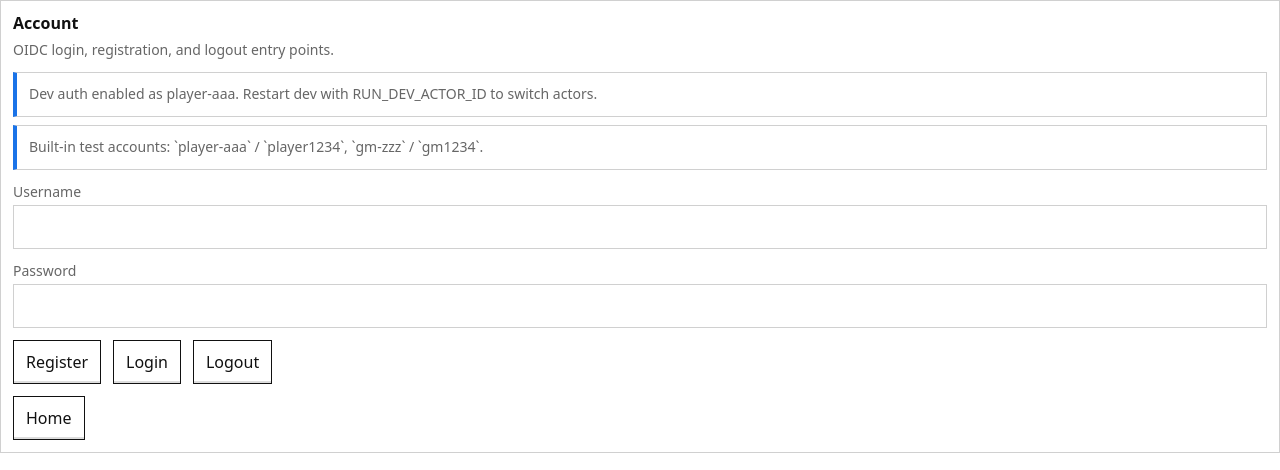
Test: LoginPage › resets the logout button state after dev logout on the account page
This screenshot has width=1280, height=470.
Click the button "Logout".
click(233, 362)  # box [193,340,272,384]
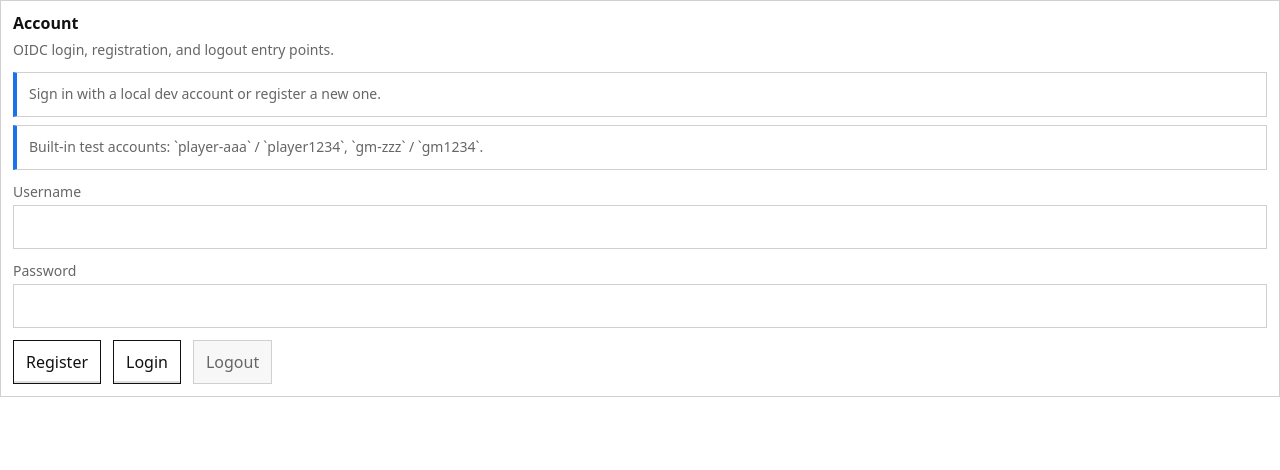
Expected: the button "Login" is enabled, [113,340,181,384]
Expected: the button "Logout" is disabled, [193,340,272,384]
